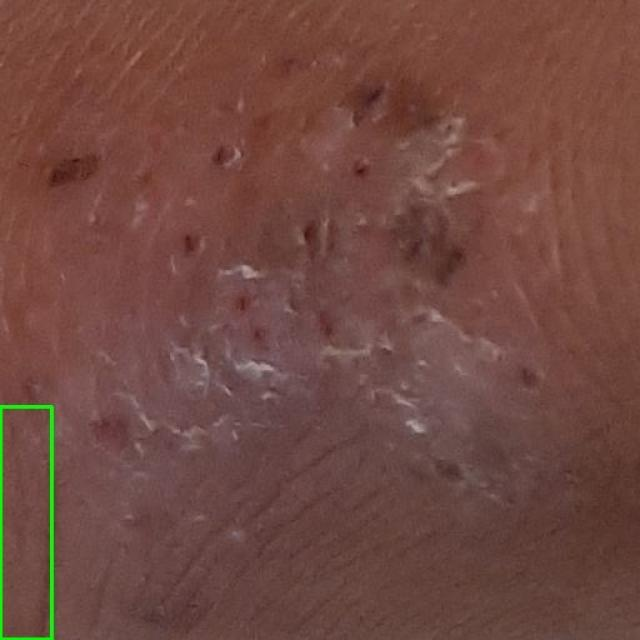Contact Dermatitis: (0, 406, 51, 639)
